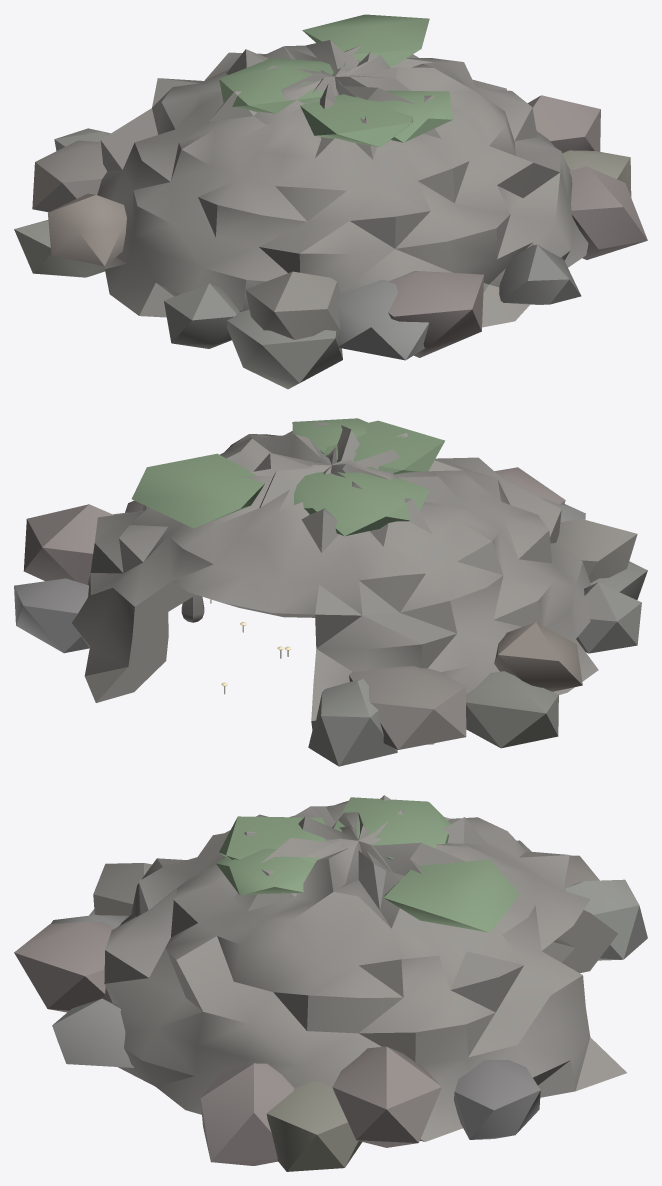
The model's file is cave.gltf.
3 renders of one model, top to bottom at view 1: azimuth 30°, elevation 25°; view 2: azimuth 150°, elevation 25°; view 3: azimuth 270°, elevation 25°, orthographic. The views are drawn at different scales.
Parts seen in each view (by area): view 1: Body; view 2: Body; view 3: Body.
Boxes of the visible parts, x1=… form: Body: x1=14, y1=14, x2=647, y2=389; Body: x1=14, y1=418, x2=647, y2=766; Body: x1=14, y1=795, x2=647, y2=1171.
Bounding box in the file's own units: 22.63 × 8.66 × 20.98.
